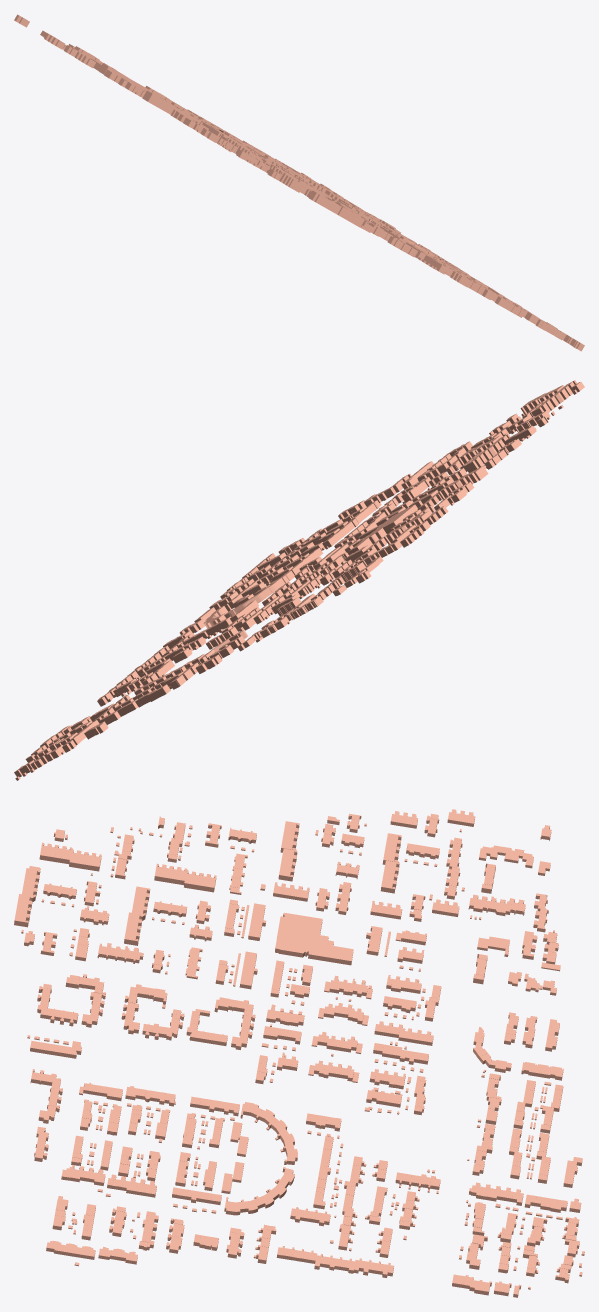
3 views of the same model, one above another, from view 1: azimuth 30°, elevation 25°; view 2: azimuth 150°, elevation 25°; view 3: azimuth 270°, elevation 25° (orthographic). The views are drawn at different scales.
Size of the model in its own units: 482 by 382 by 635.
